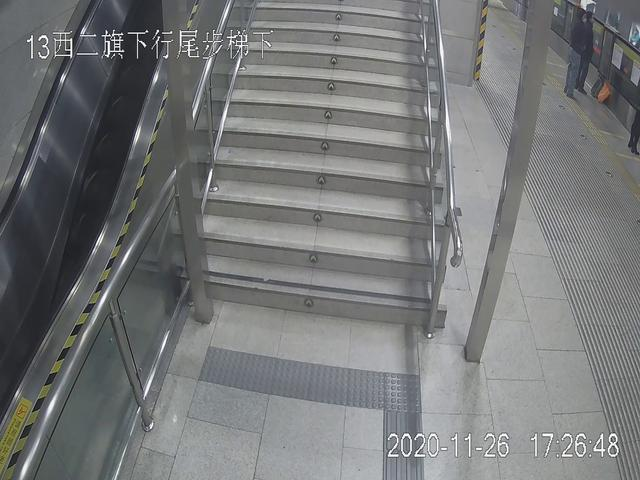person: (561, 6, 589, 100), (577, 7, 602, 95)
